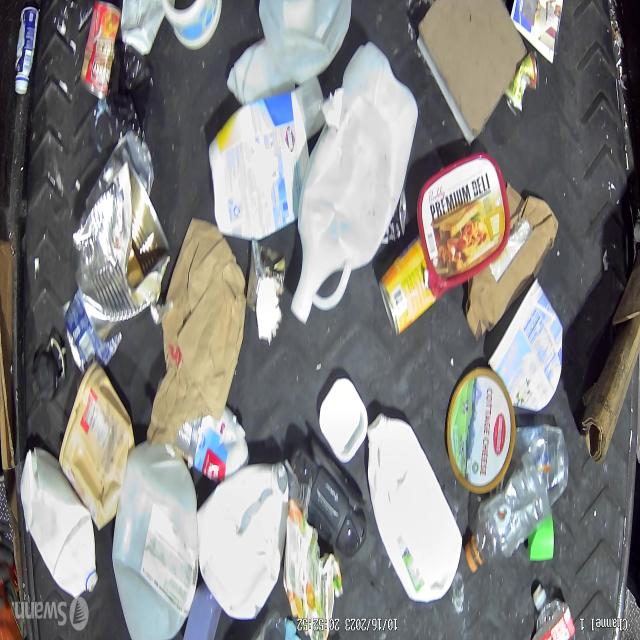can: (71, 156, 171, 342), (378, 235, 436, 337), (65, 290, 123, 376), (79, 0, 122, 100), (246, 240, 286, 316), (504, 49, 540, 120), (382, 190, 406, 245), (176, 416, 203, 460)
milk_jug: (290, 41, 418, 327), (367, 412, 462, 604), (111, 441, 199, 640), (196, 462, 290, 622), (19, 445, 98, 599), (258, 0, 352, 86), (226, 34, 295, 104)
plastic_bottle: (465, 451, 549, 574)
